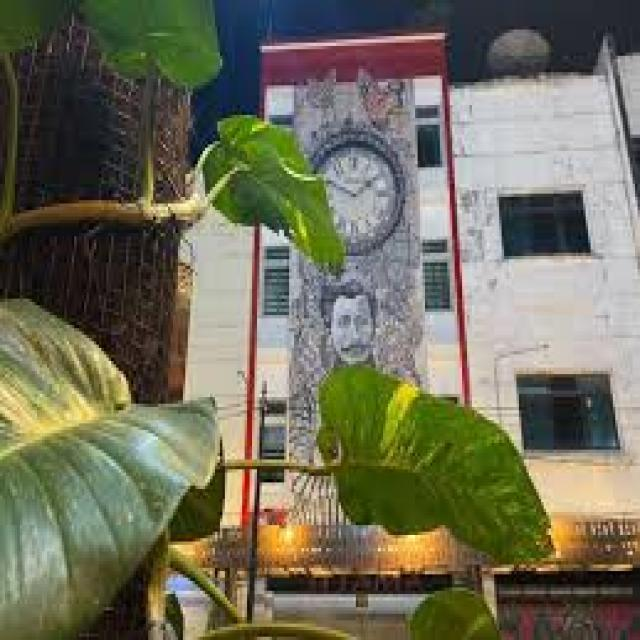-: (289, 72, 423, 515)
